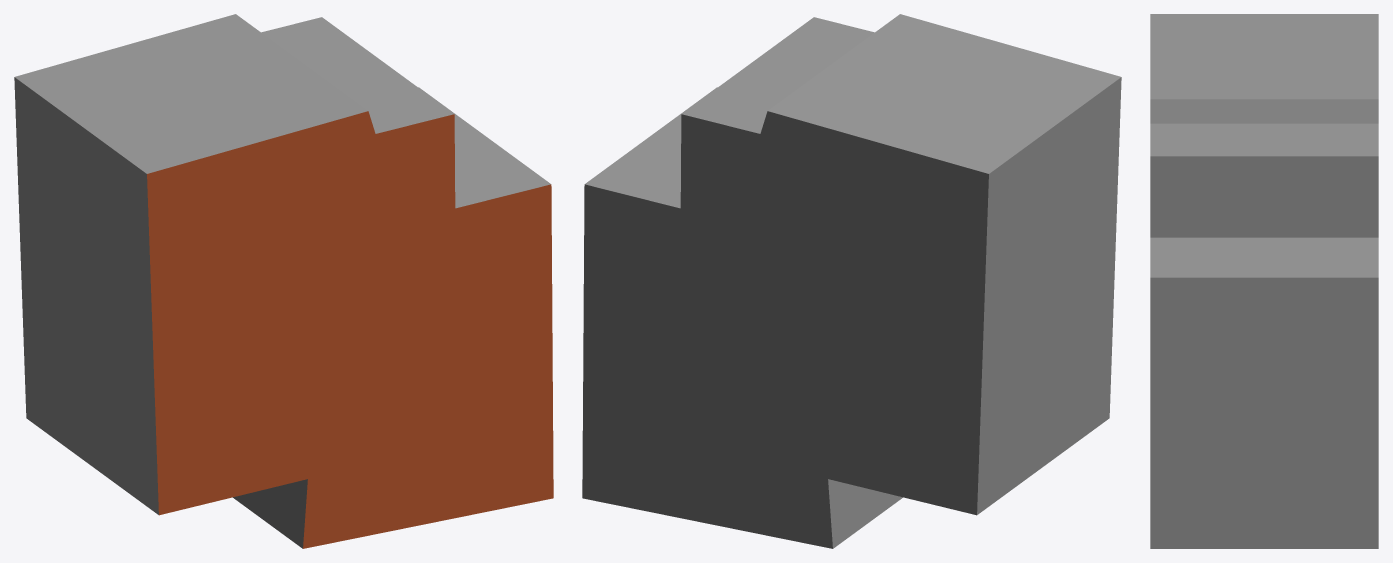
Rendered from construction_0850_assumed_A_Casa_h6m.obj.
3 renders of one model, left to right at view 1: azimuth 30°, elevation 25°; view 2: azimuth 150°, elevation 25°; view 3: azimuth 270°, elevation 25°, orthographic. The views are drawn at different scales.
Visible parts, largest first — view 1: construction_0850_assumed_A_Casa; view 2: construction_0850_assumed_A_Casa; view 3: construction_0850_assumed_A_Casa.
Part boxes in pixels (x1,y1,x2,y2): construction_0850_assumed_A_Casa: (14, 14, 553, 548); construction_0850_assumed_A_Casa: (582, 14, 1121, 548); construction_0850_assumed_A_Casa: (1150, 14, 1378, 548).
Bounding box in the file's own units: 10.62 × 10.8 × 6.
